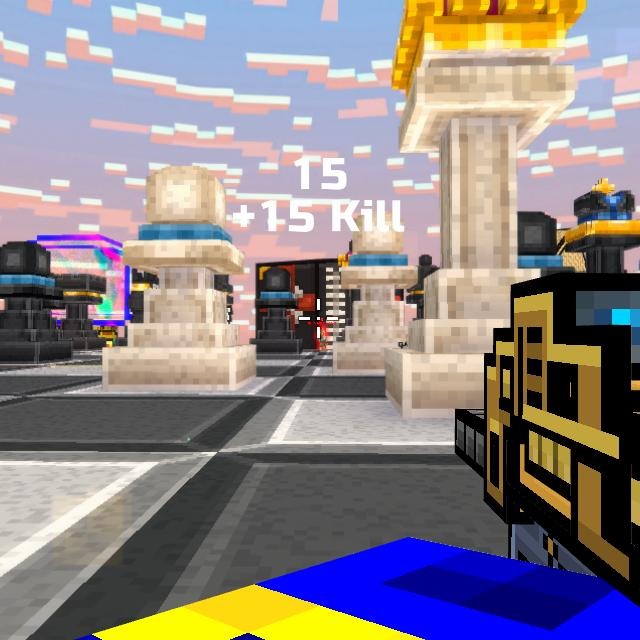Enemy: (317, 331, 327, 352)
